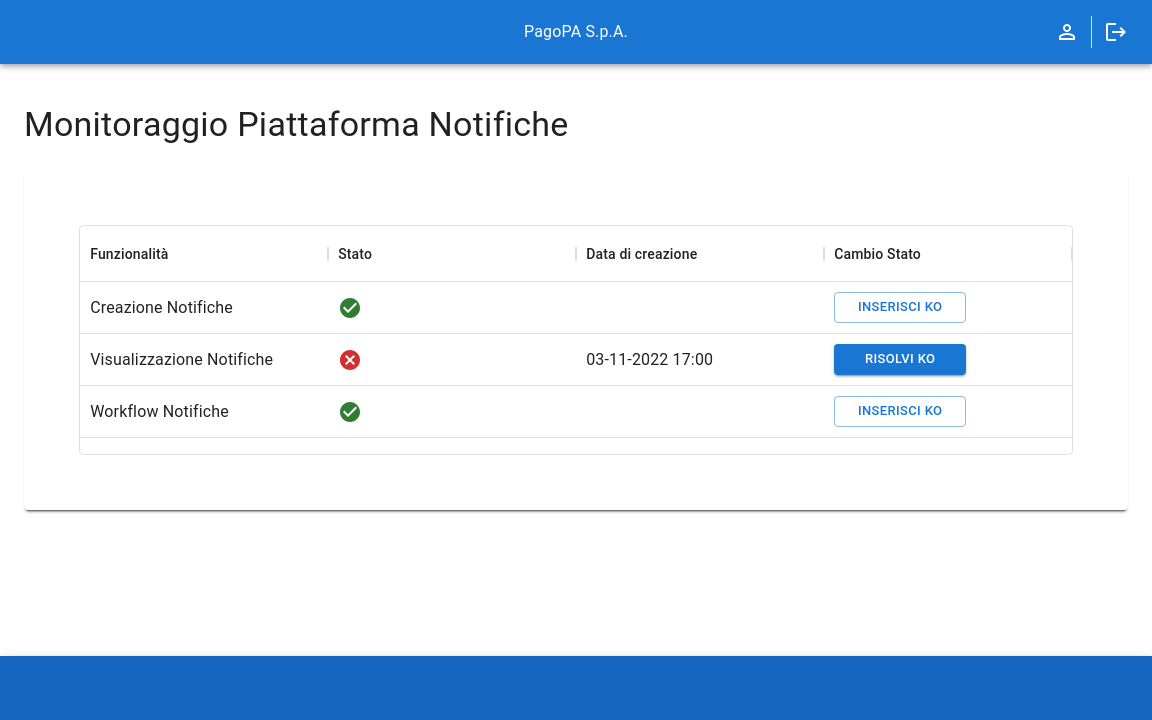
MonitorPage › render button to create an event OK and get error
The width and height of the screenshot is (1152, 720).
Click the button "Risolvi KO".
click(900, 360)  # box [834,344,966,375]
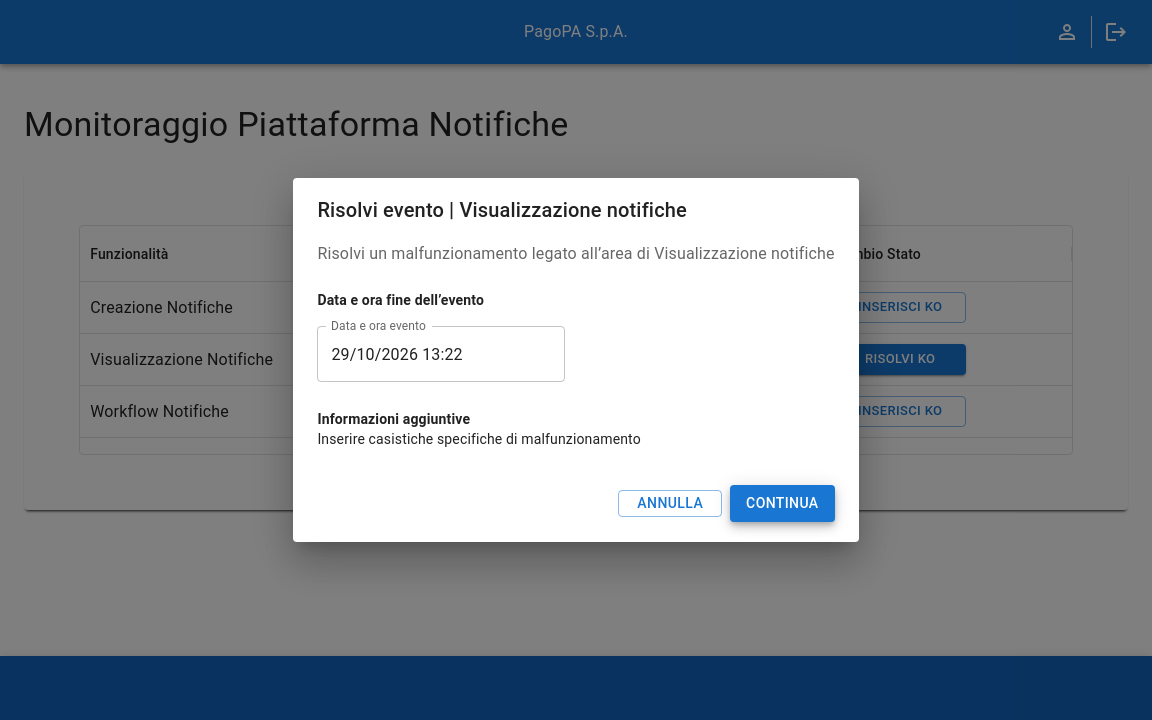
Expected: the element with test id "resolve-malfunction-dialog-testid" is shown
